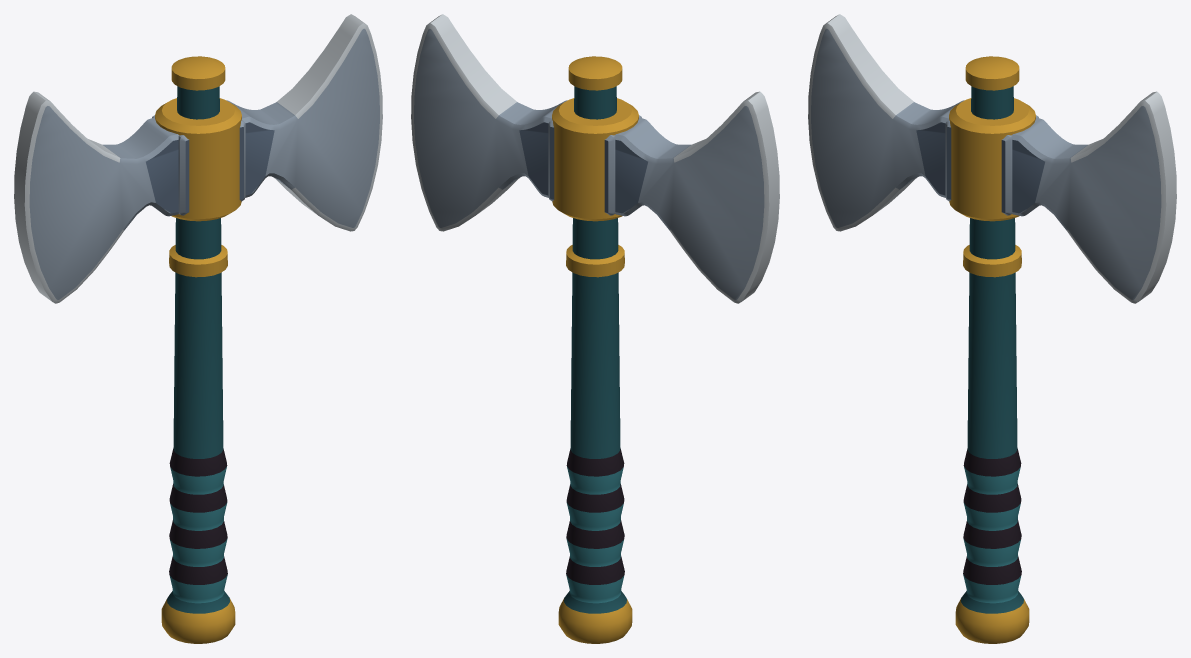
File: Axe_05.glb
3 views of the same model, side by side, from view 1: azimuth 30°, elevation 25°; view 2: azimuth 150°, elevation 25°; view 3: azimuth 330°, elevation 25° (orthographic).
Visible parts, largest first — view 1: Axe_05; view 2: Axe_05; view 3: Axe_05.
Boxes of the visible parts, x1,y1,x2,y2 form: Axe_05: [14, 14, 382, 643]; Axe_05: [411, 14, 779, 643]; Axe_05: [808, 14, 1176, 643].
Size of the model in its own units: 2.99 by 4.57 by 0.63.
